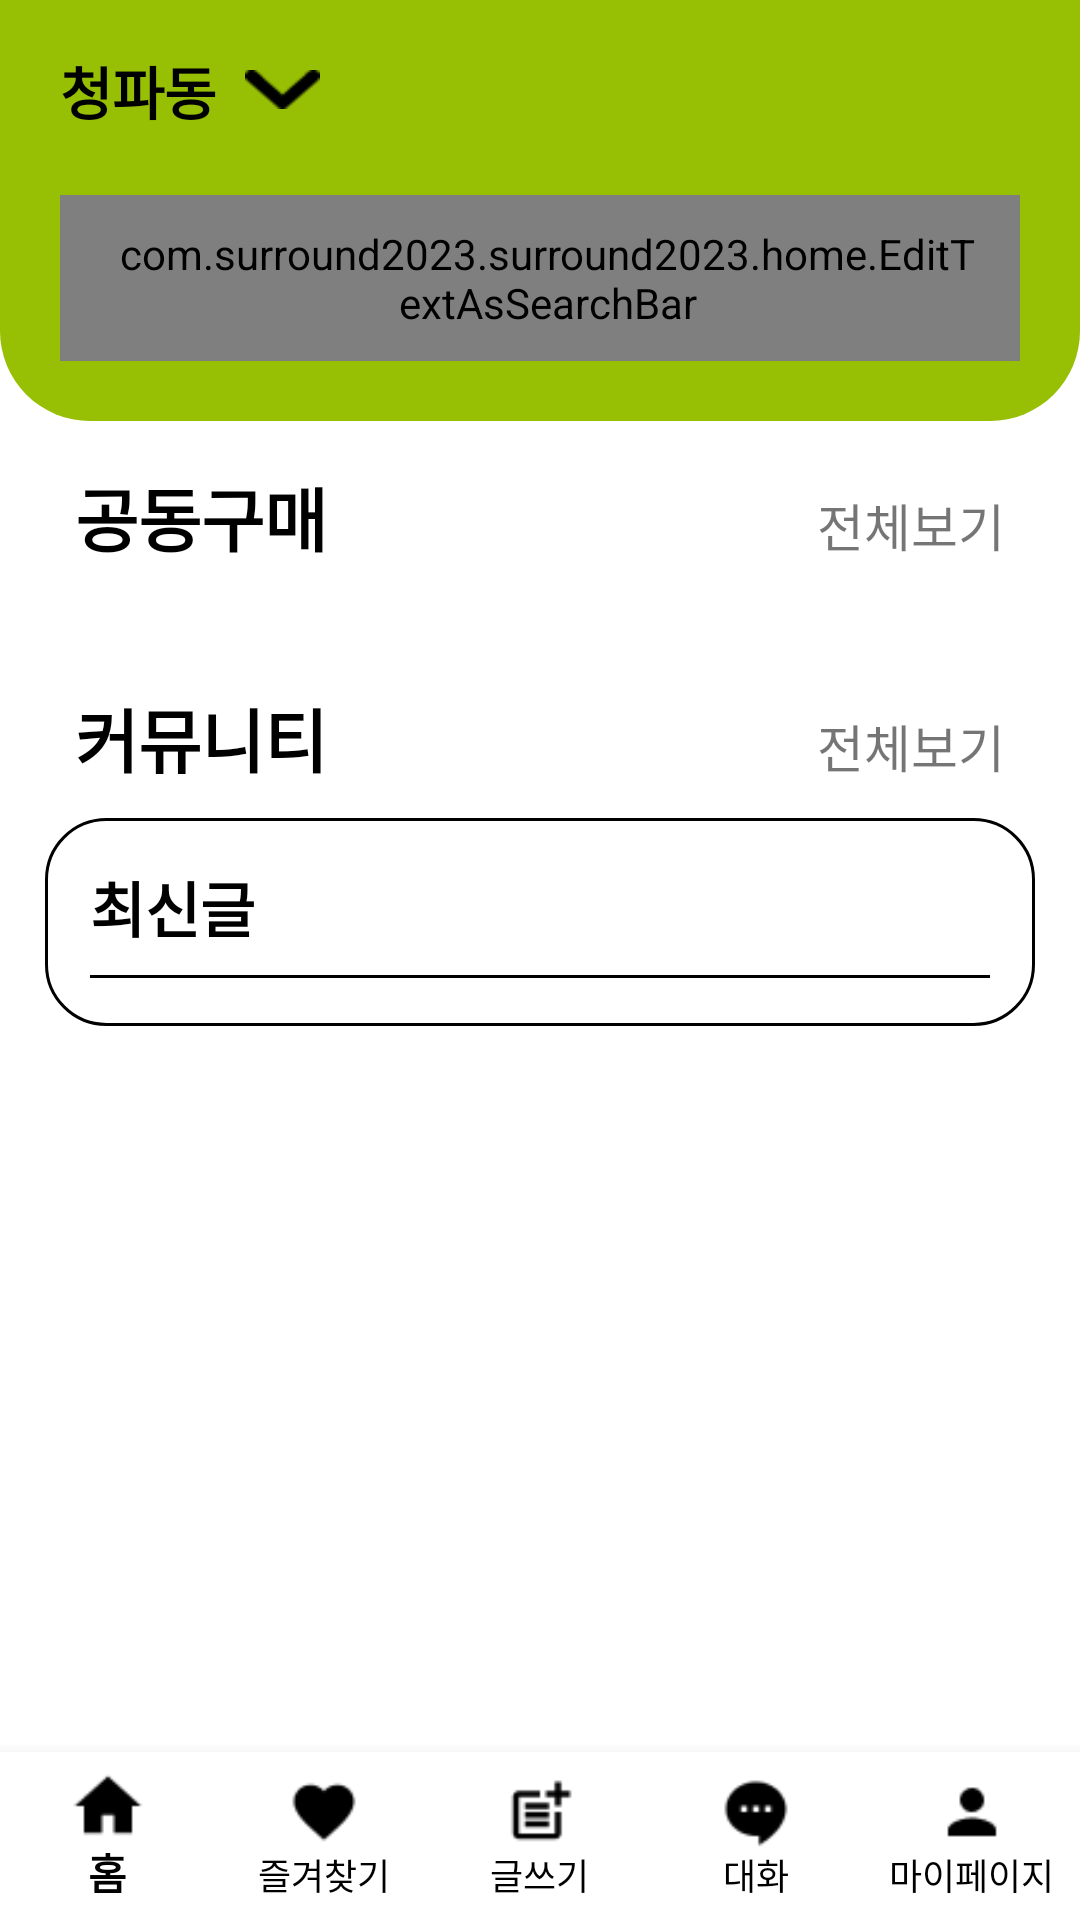

Screen size 1080px x 1920px. Icon name, then its center in pixels as [x,y]:
dropdown: [282,89]
